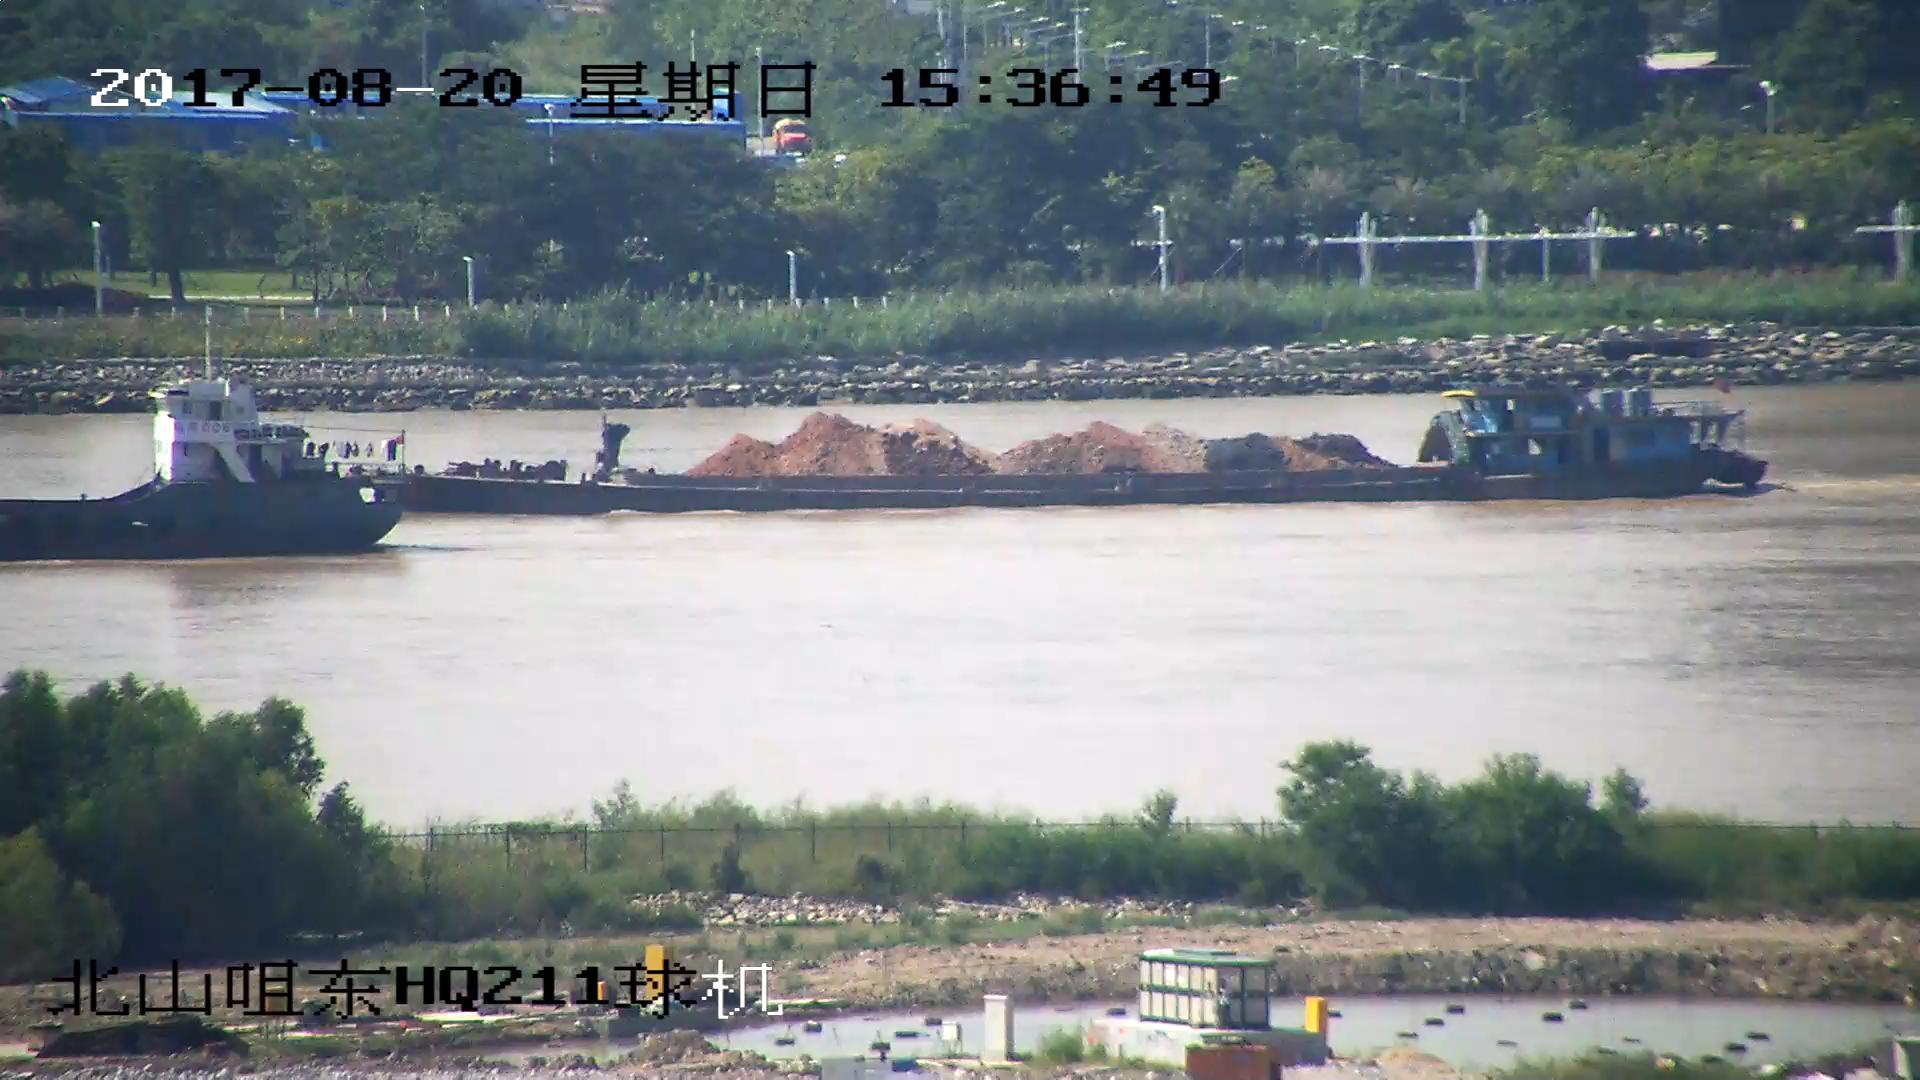Ship: (352, 343, 1782, 517), (3, 313, 415, 564)
